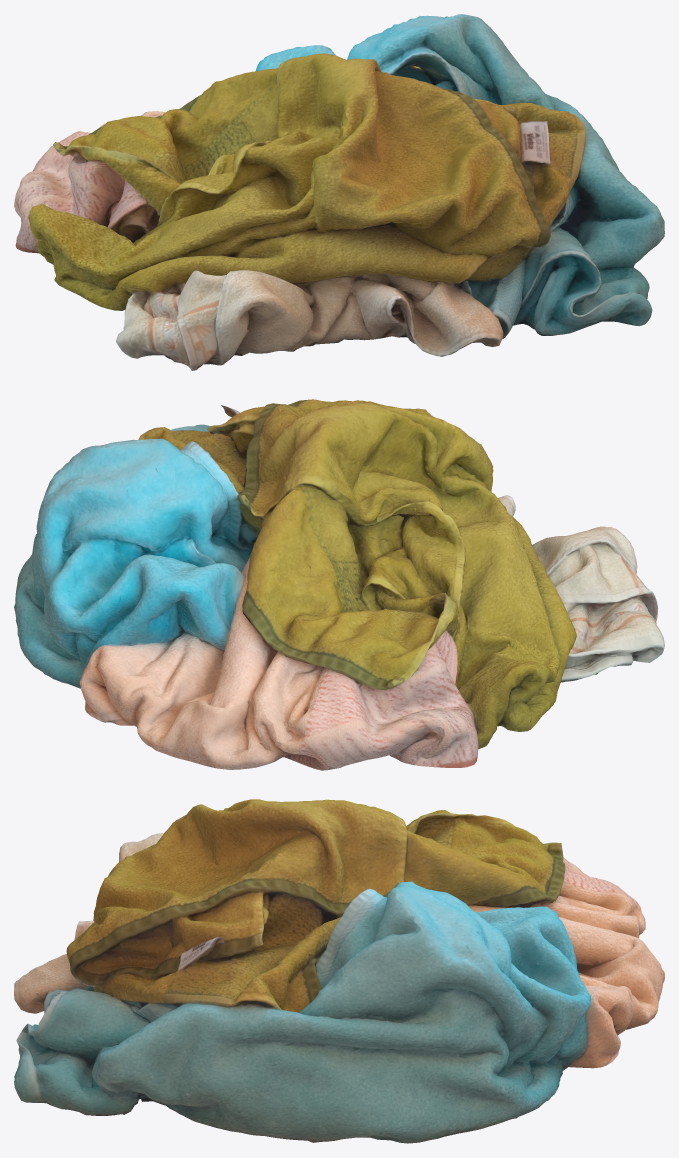
Rendered from towels_iii.glb.
The picture shows the model from 3 angles, top to bottom: view 1: azimuth 30°, elevation 25°; view 2: azimuth 150°, elevation 25°; view 3: azimuth 270°, elevation 25°; orthographic projection. The views are drawn at different scales.
Parts seen in each view (by area): view 1: Towels_III; view 2: Towels_III; view 3: Towels_III.
Boxes of the visible parts, left/top/right/bottom form: Towels_III: left=14, top=14, right=664, bottom=370; Towels_III: left=14, top=399, right=664, bottom=770; Towels_III: left=14, top=799, right=664, bottom=1143.
Size of the model in its own units: 0.8137 by 0.2984 by 0.8129.
Materials: 1 (1 with a texture image).
